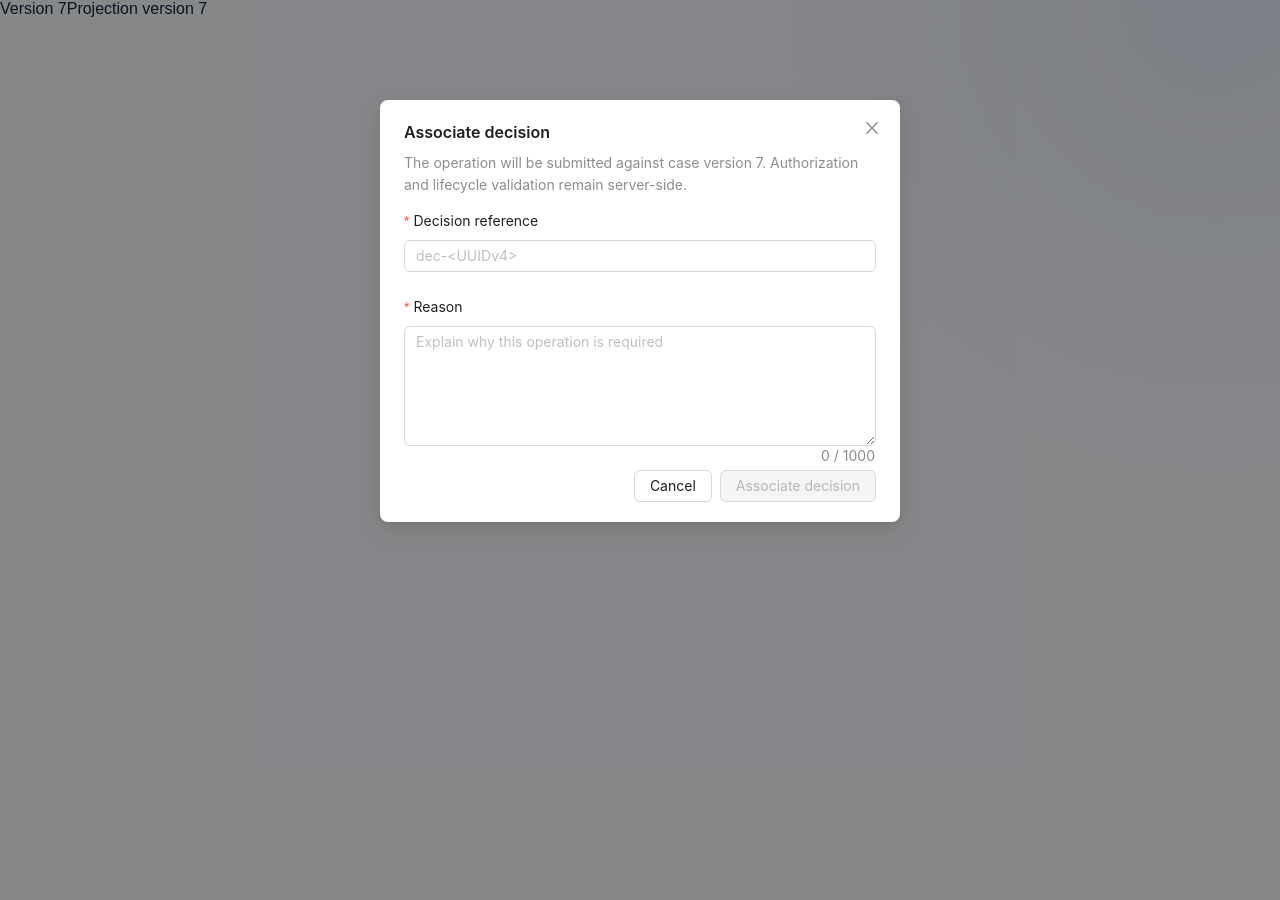
Scenario: Q-018 association action registry and runner › refetches the authoritative projection after an association write
In the field labelled "Decision reference": (640,256) [404,240,876,272], type "dec-18000000-0000-4000-8000-000000000001"
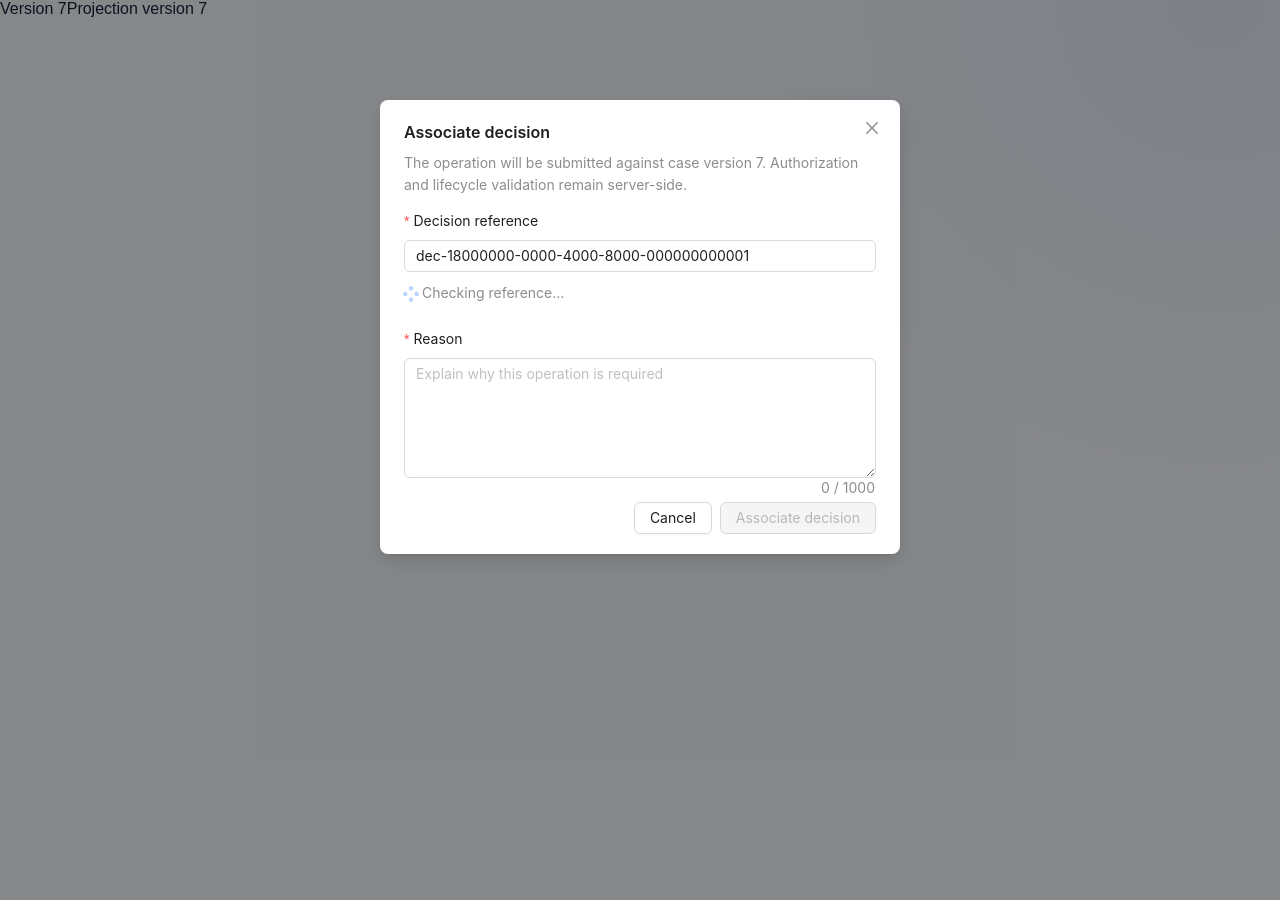
In the text box labelled "Reason": (640,418) [405,359,875,477], type "Attach reviewed decision."
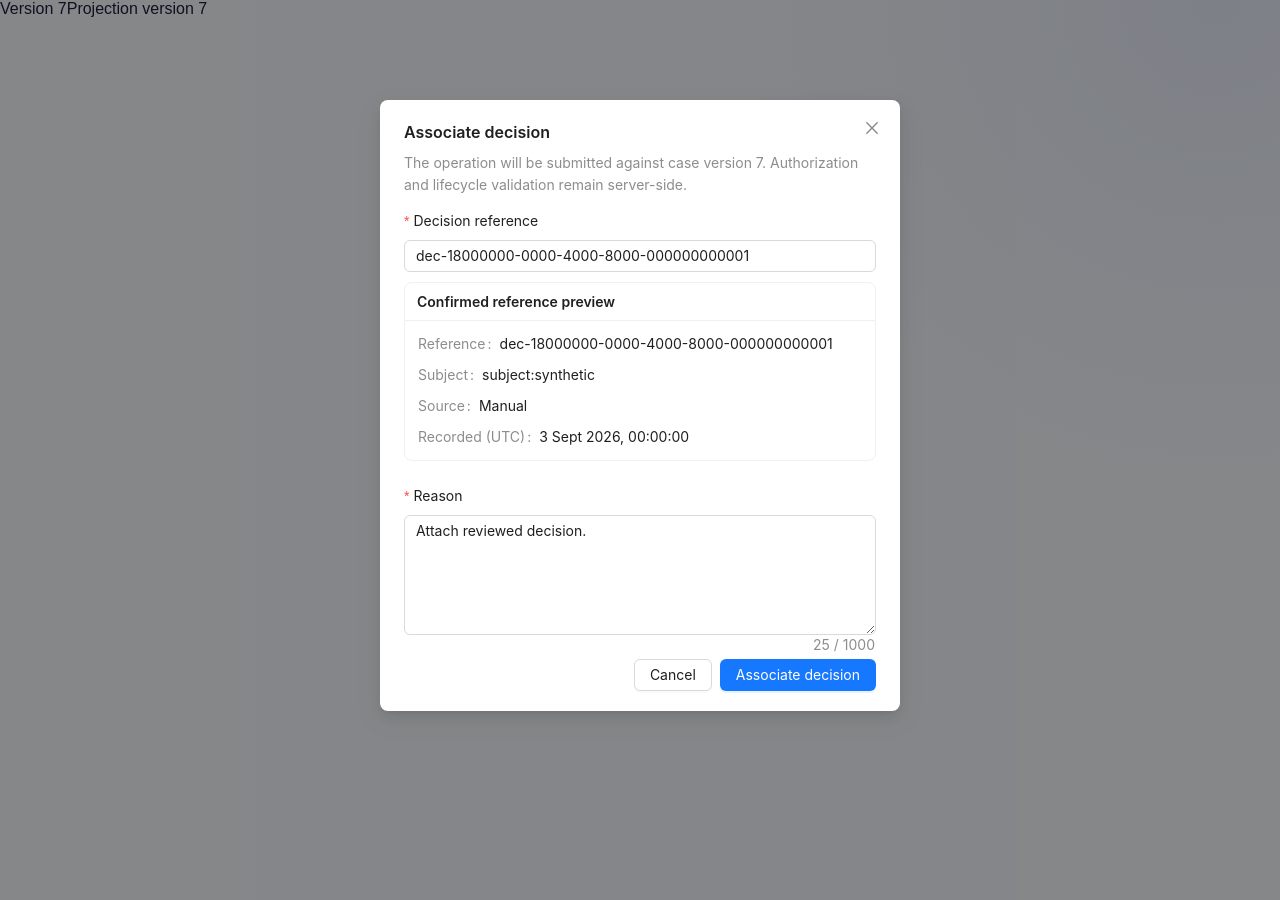
Result: the text "Confirmed reference preview" is shown at [417,292,615,310]
Click the button "Associate decision": (798,675) [720,659,876,691]
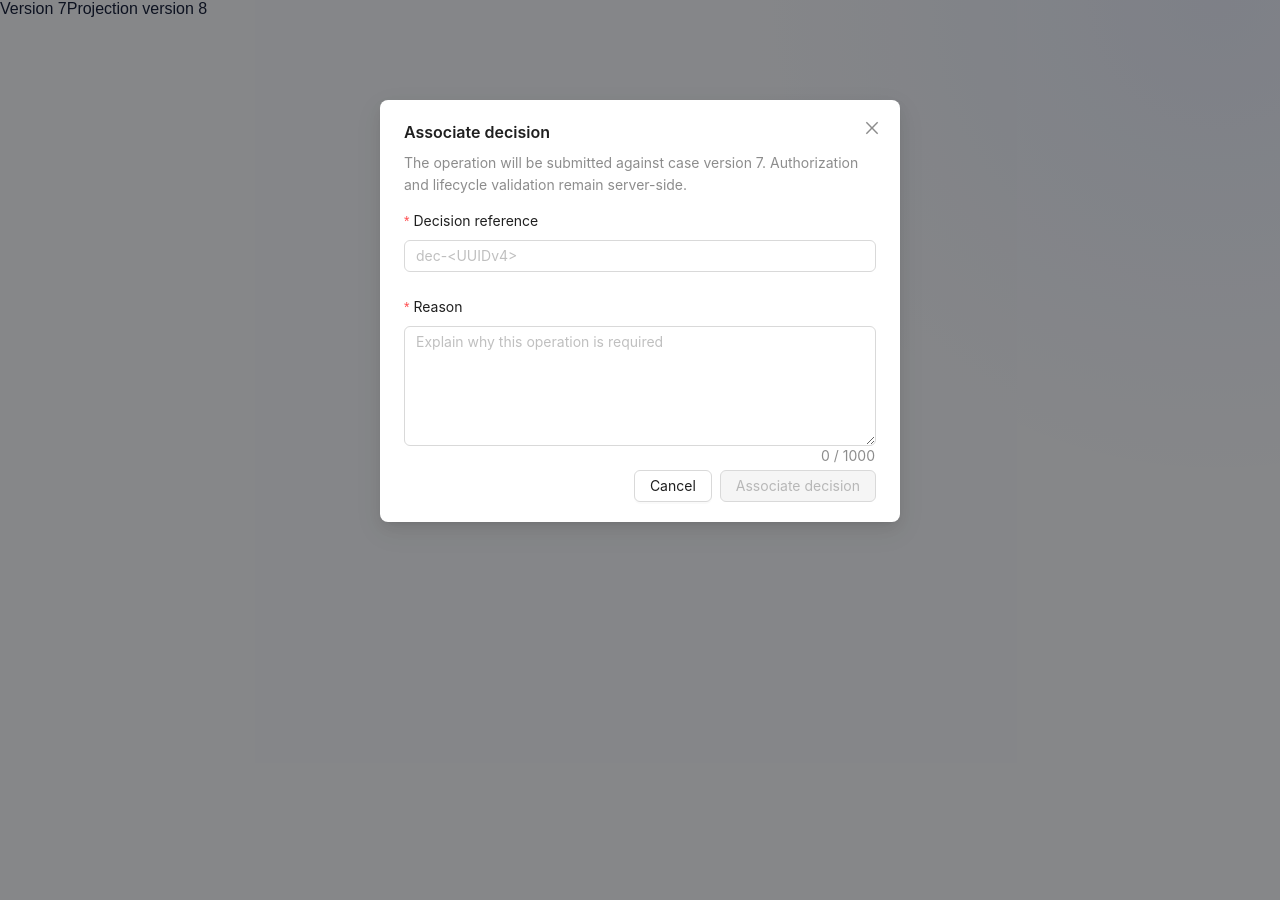
Result: the text "Projection version 8" is shown at [67,0,207,17]
